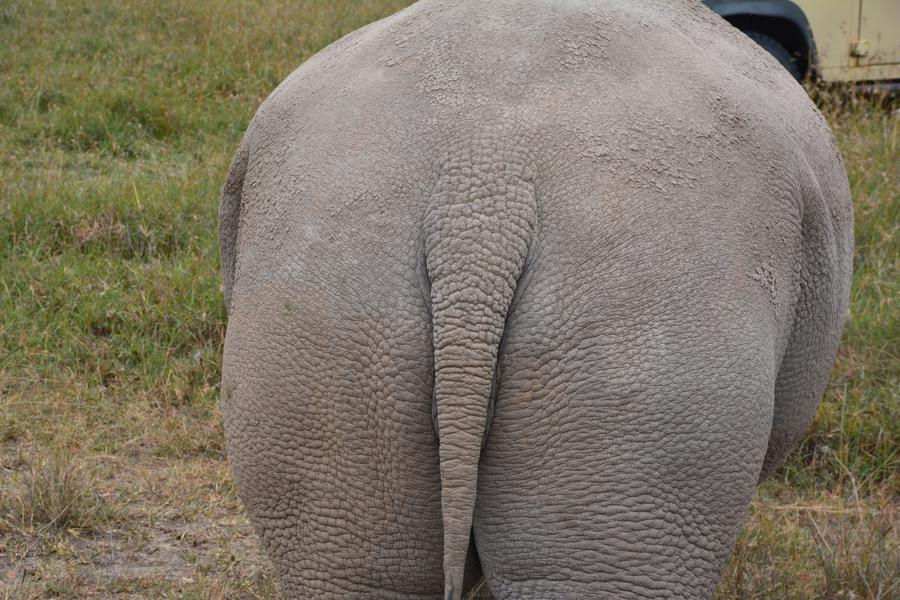rhino: (224, 12, 856, 572)
